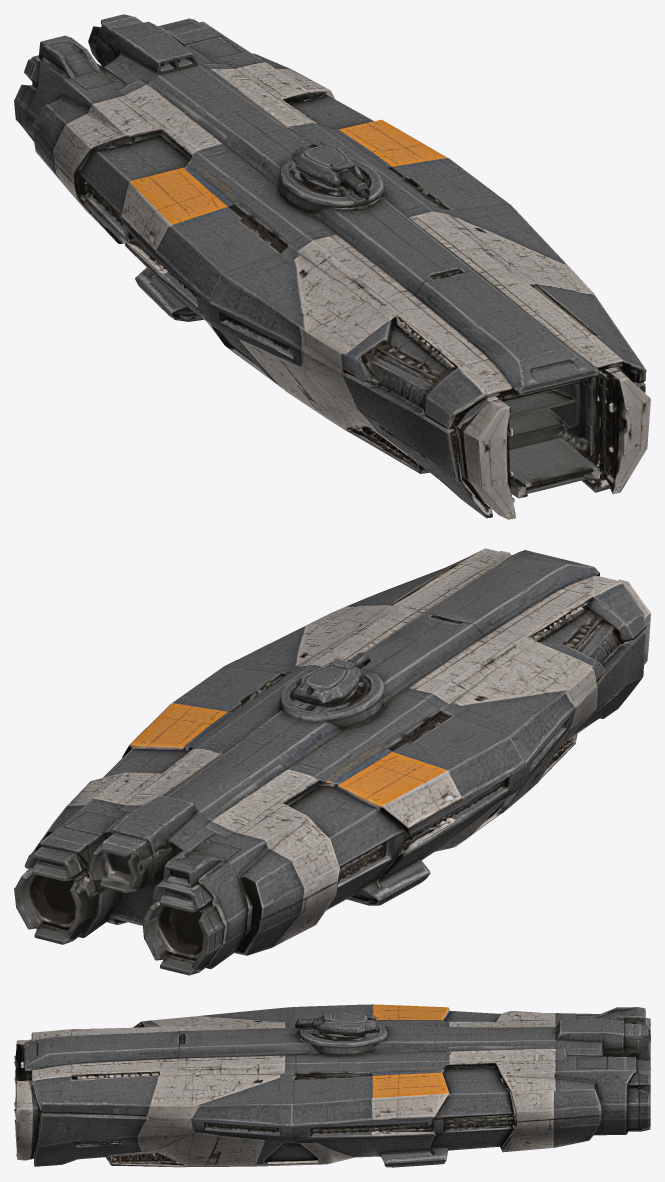
File: colossus-very-high.glb
The picture shows the model from 3 angles, top to bottom: view 1: azimuth 30°, elevation 25°; view 2: azimuth 150°, elevation 25°; view 3: azimuth 270°, elevation 25°; orthographic projection. The views are drawn at different scales.
Parts seen in each view (by area): view 1: Low; view 2: Low; view 3: Low.
Part boxes in pixels (x1,y1,x2,y2): Low: (14, 14, 650, 519); Low: (14, 548, 650, 975); Low: (14, 1004, 650, 1167).
Bounding box in the file's own units: 0.7837 × 0.4473 × 1.95.
1 material, 1 textured.
